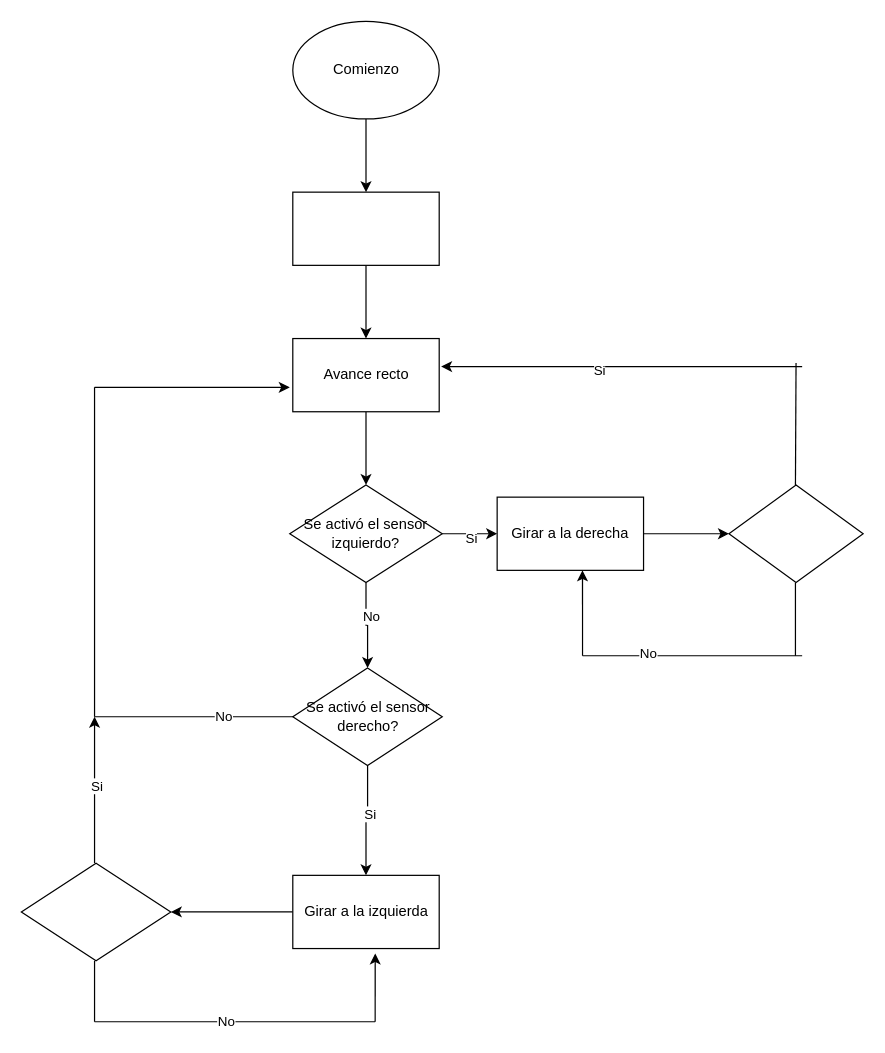
Image size: 885x1053. Some labels were removed from this diagram. Each missing label, with the box of its shape:
Arranque de los motores: (292, 191, 439, 265)
Se desactivó el sensor derecho?: (20, 862, 171, 961)
Se desactivó el sensor izquierdo?: (728, 484, 863, 583)
